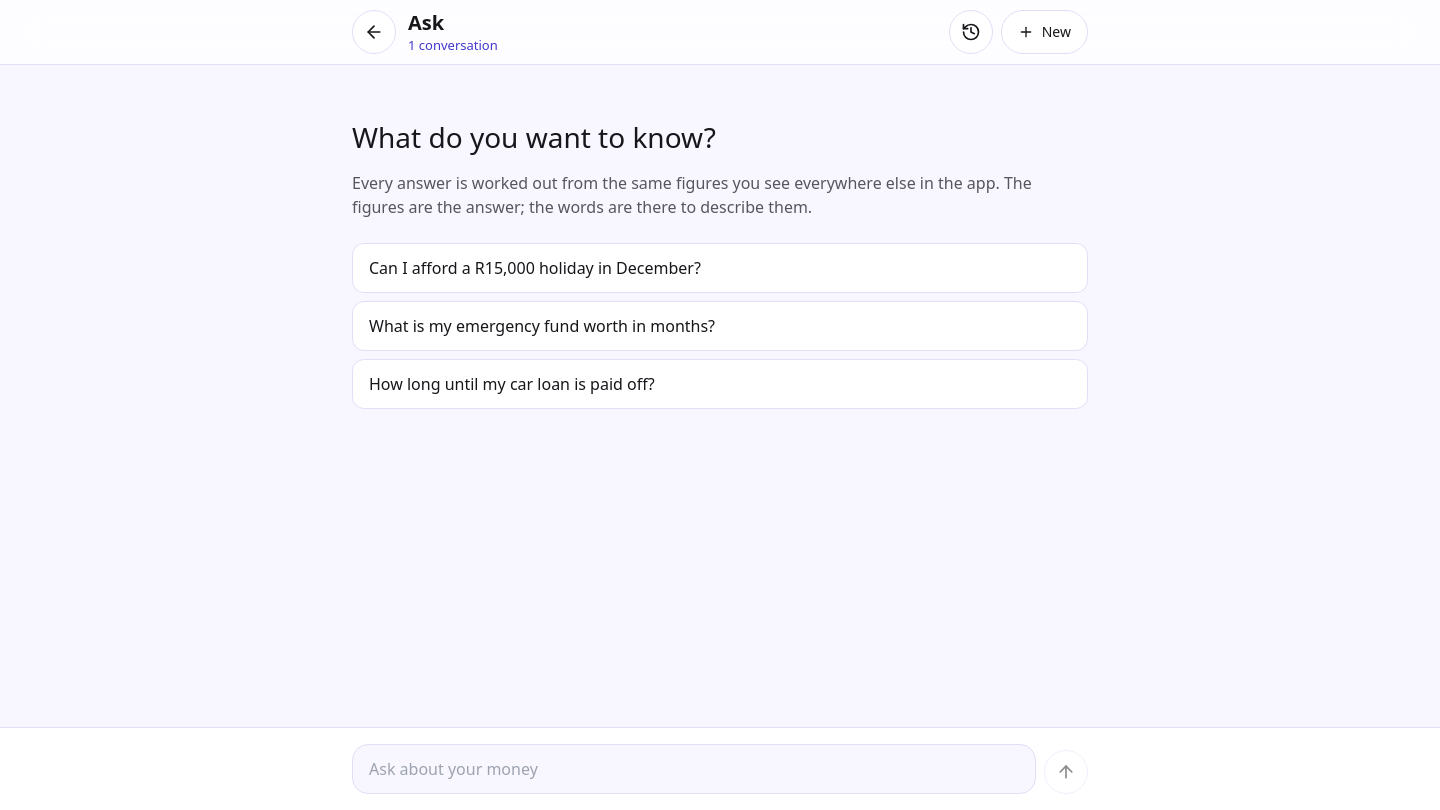
Test: ChatView history › switches to the selected conversation and closes the drawer
This screenshot has width=1440, height=810.
Click the button named "History" at (971, 32), box [949,10,993,54]
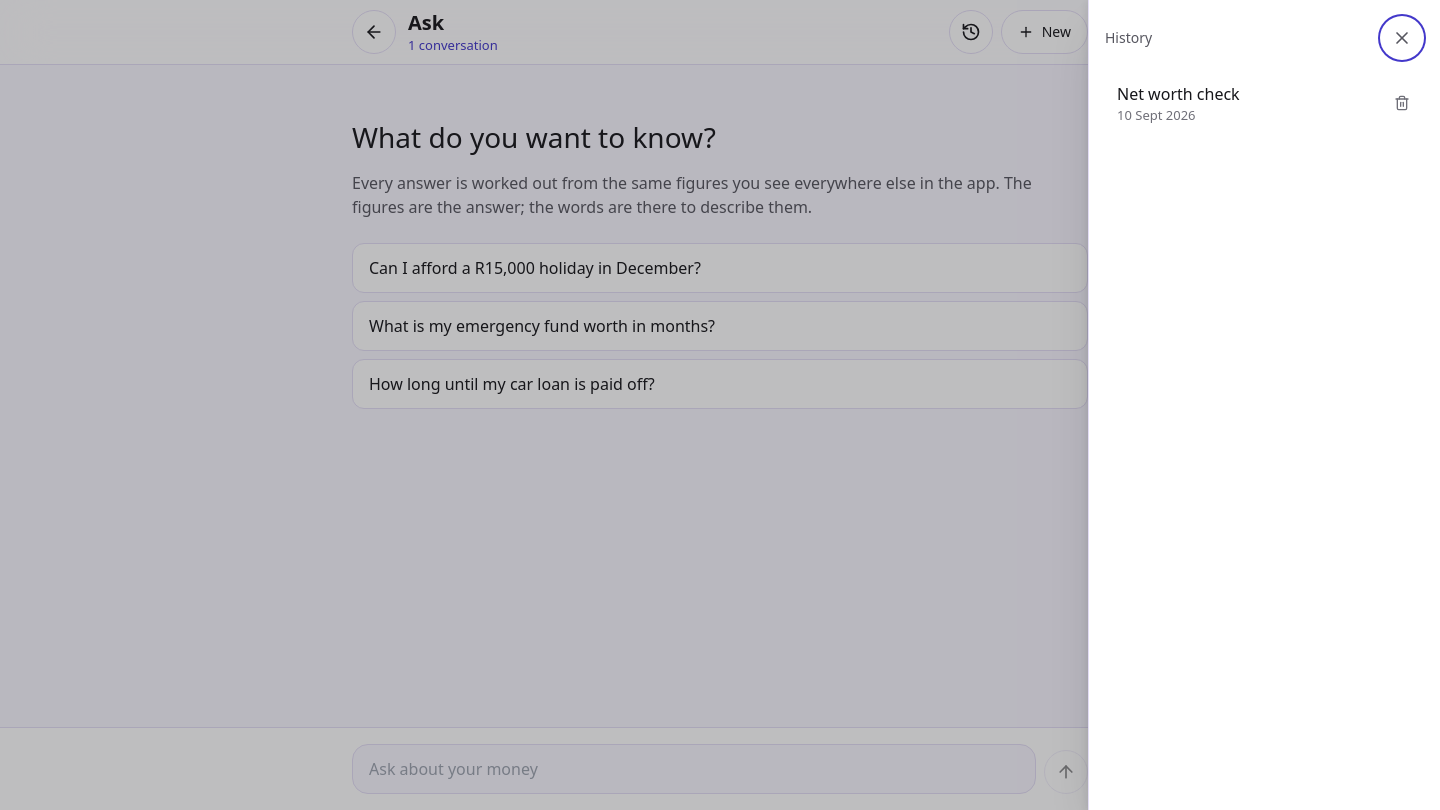
Click the text "Net worth check" at (1178, 94), box [1117,82,1240,106]
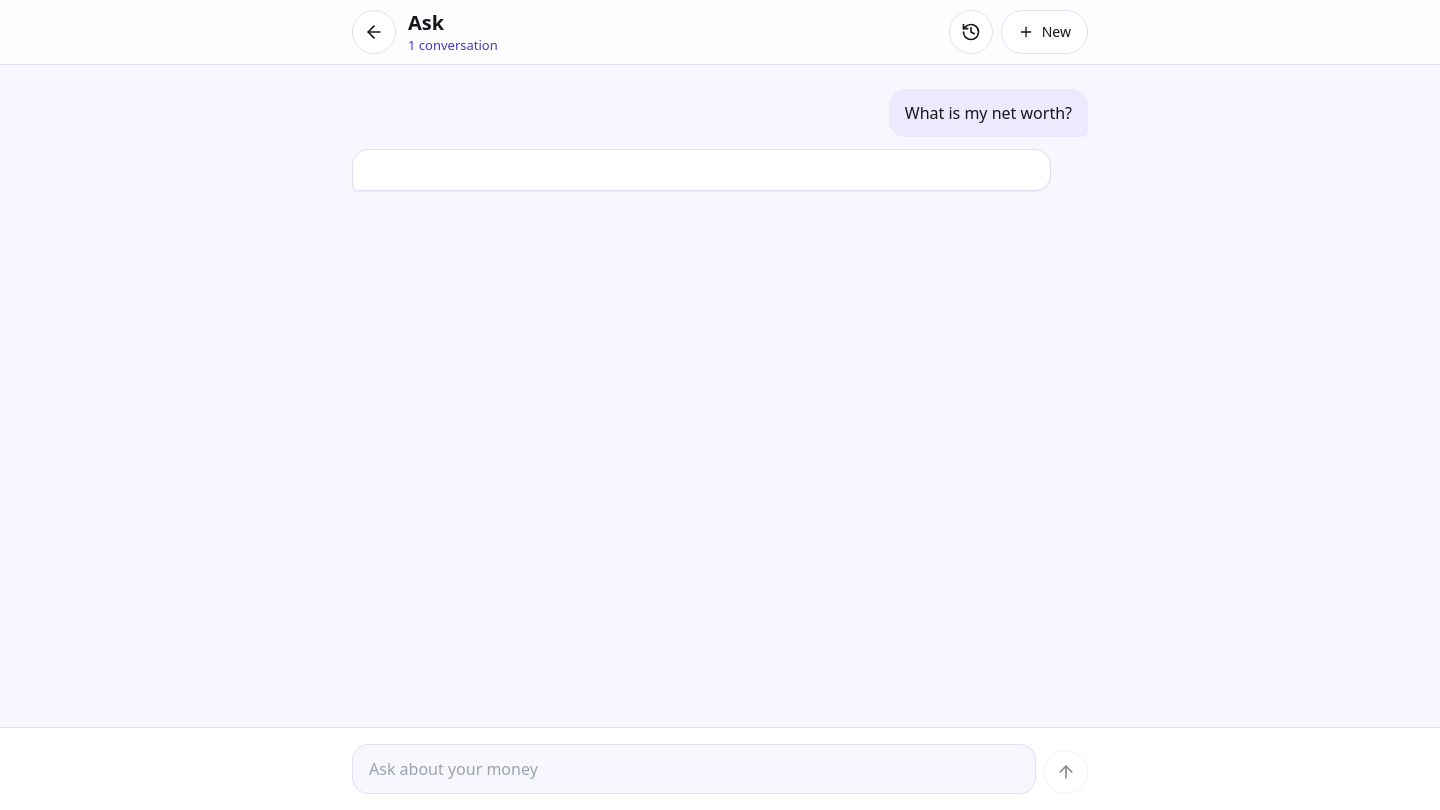
Check: the text "What is my net worth?" is shown, box [889,89,1088,137]
